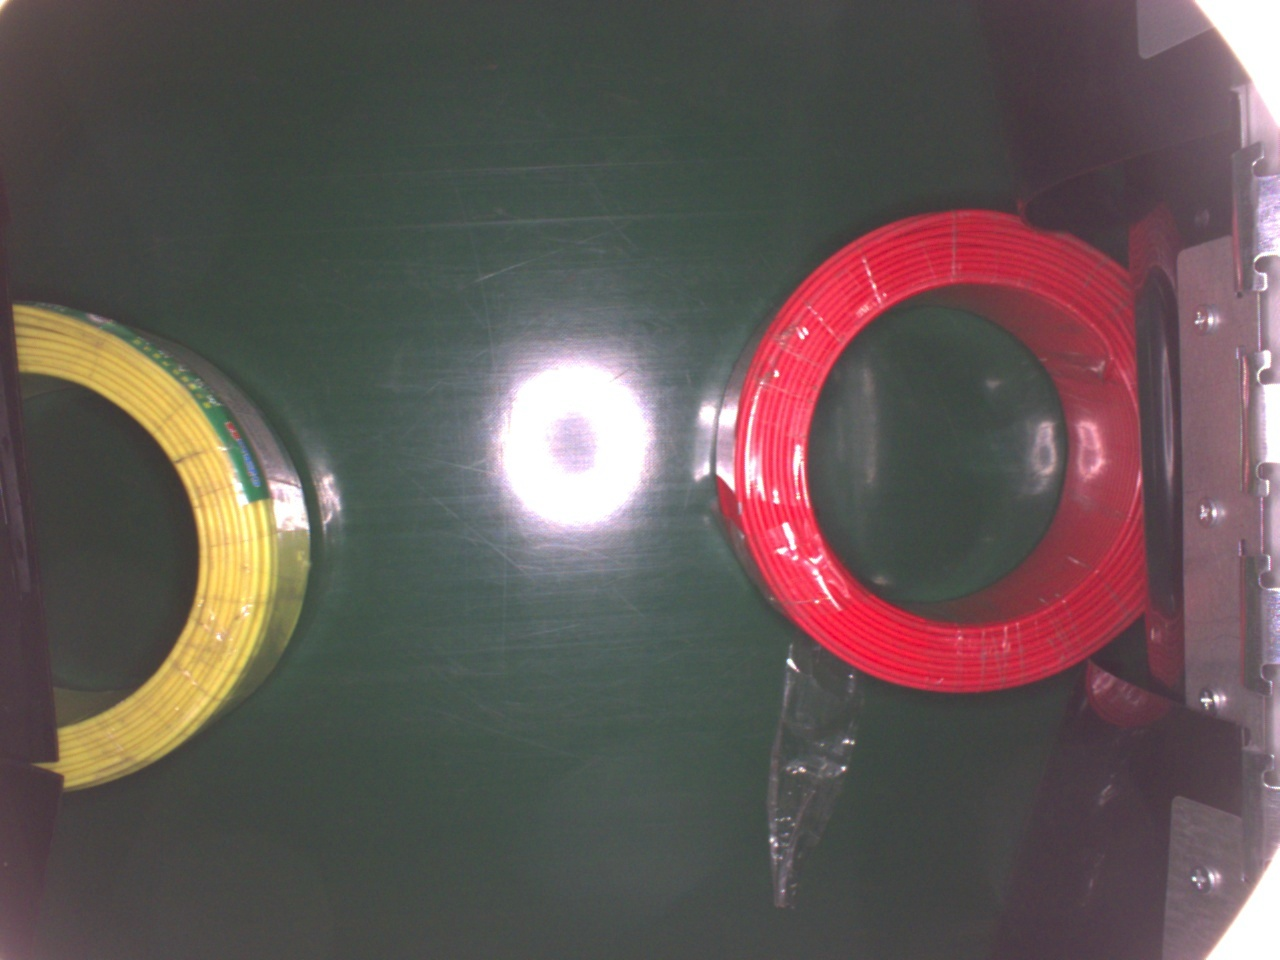red: (719, 201, 1146, 697)
yellow: (7, 301, 316, 795)
